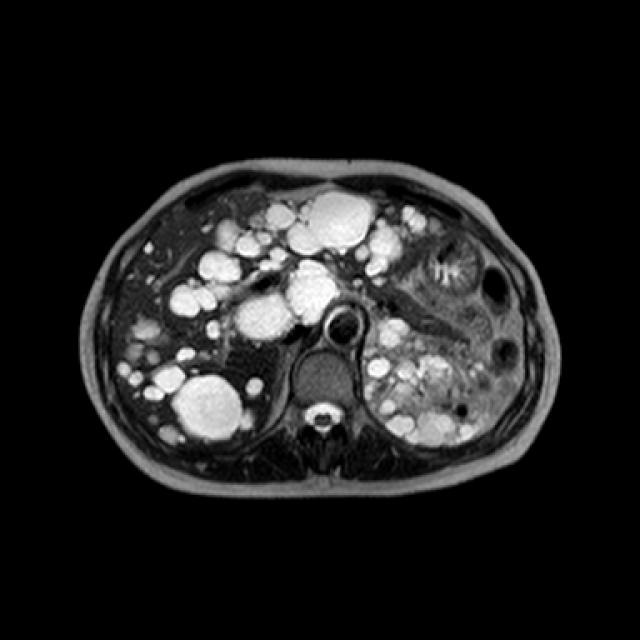sol: (361, 315, 515, 449)
